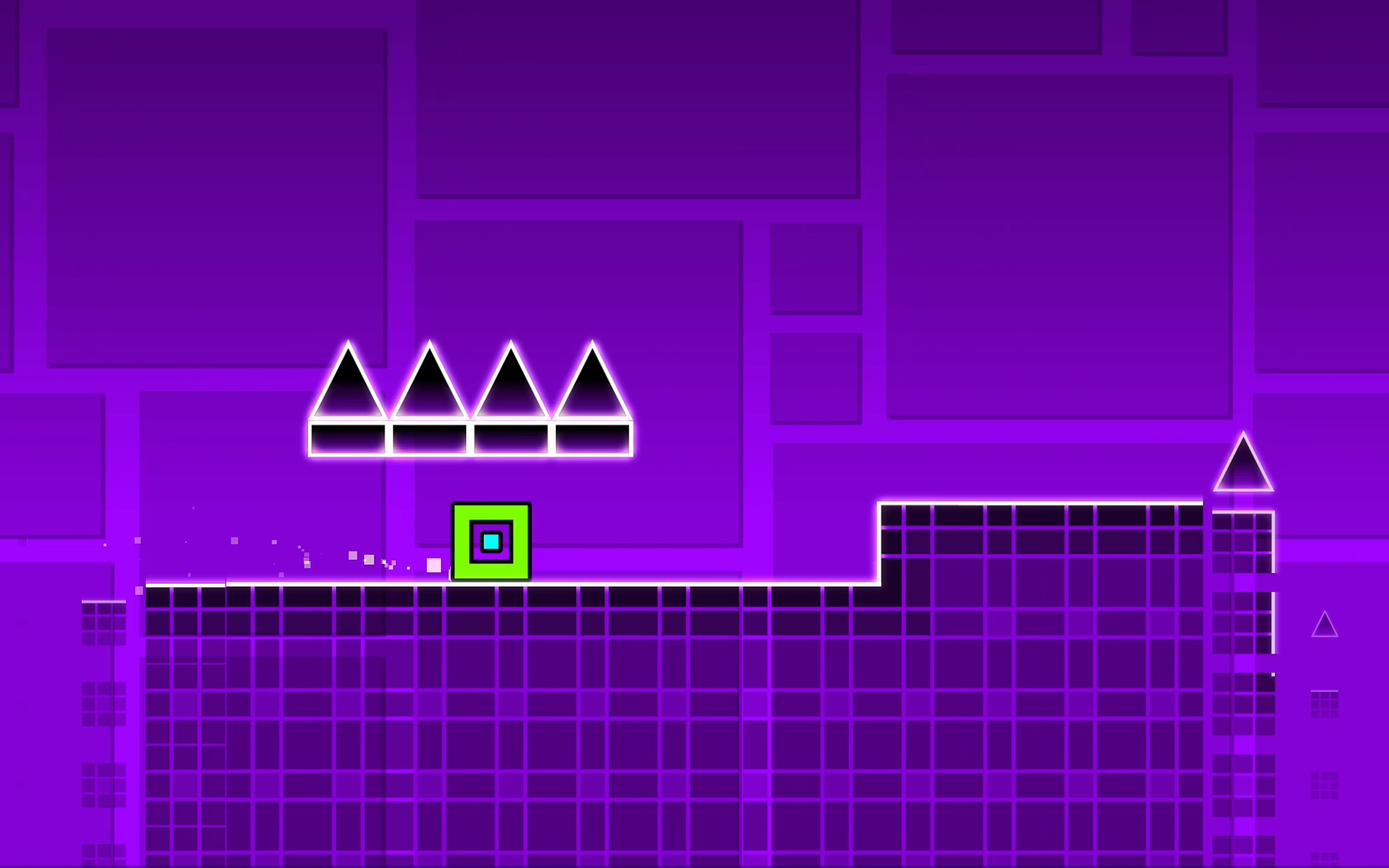Block2: (149, 576, 1327, 852), (882, 500, 1206, 573)
Block3: (393, 419, 468, 456), (556, 422, 631, 456), (309, 423, 386, 456), (474, 422, 548, 456)
Player: (453, 500, 533, 577)
Spike: (559, 341, 635, 424), (310, 342, 384, 418), (392, 342, 465, 418), (473, 343, 546, 418), (1216, 433, 1276, 493)
